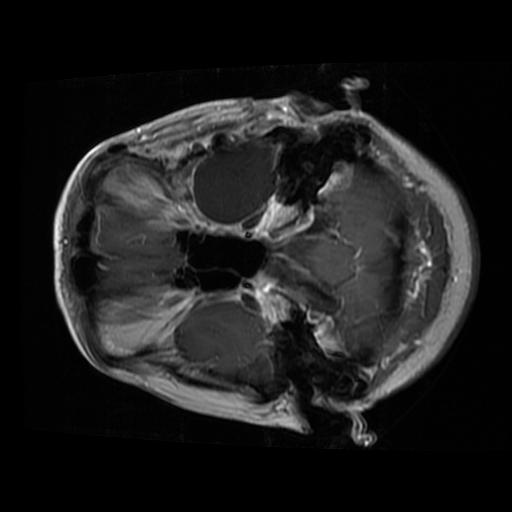glioma: (191, 139, 277, 225)
